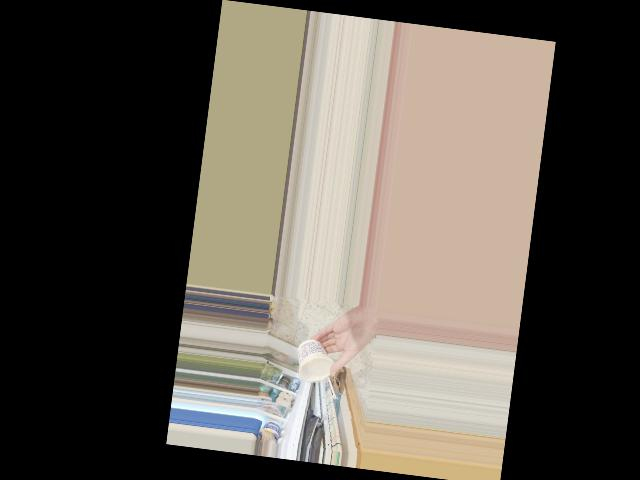cotage: (296, 336, 334, 384)
